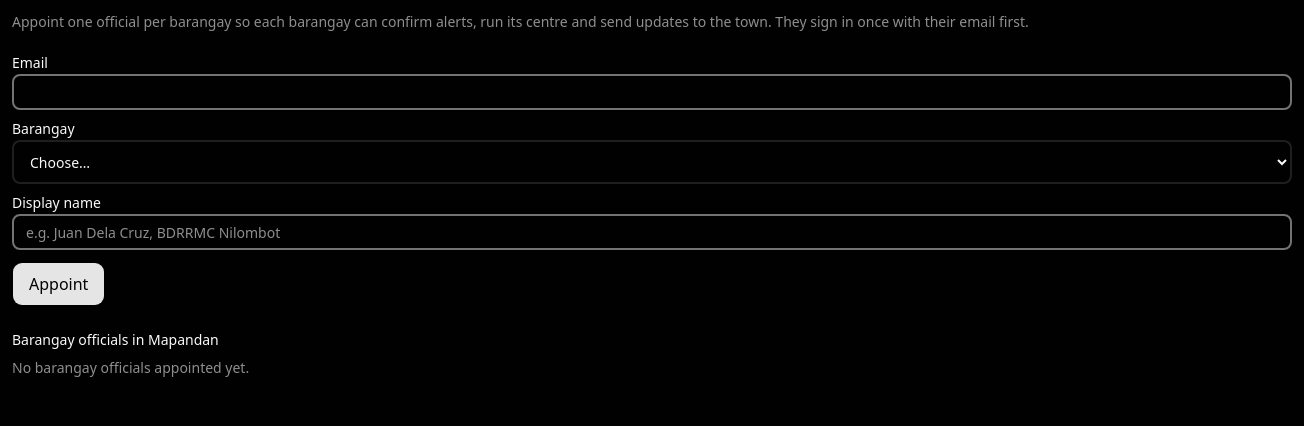
Scenario: TownOfficialsPanel (a municipal official manages their barangay officials) › shows the database's refusal
Type "x@y.z" into the field labelled "Email" at (652, 92), box [12,74,1292,110]
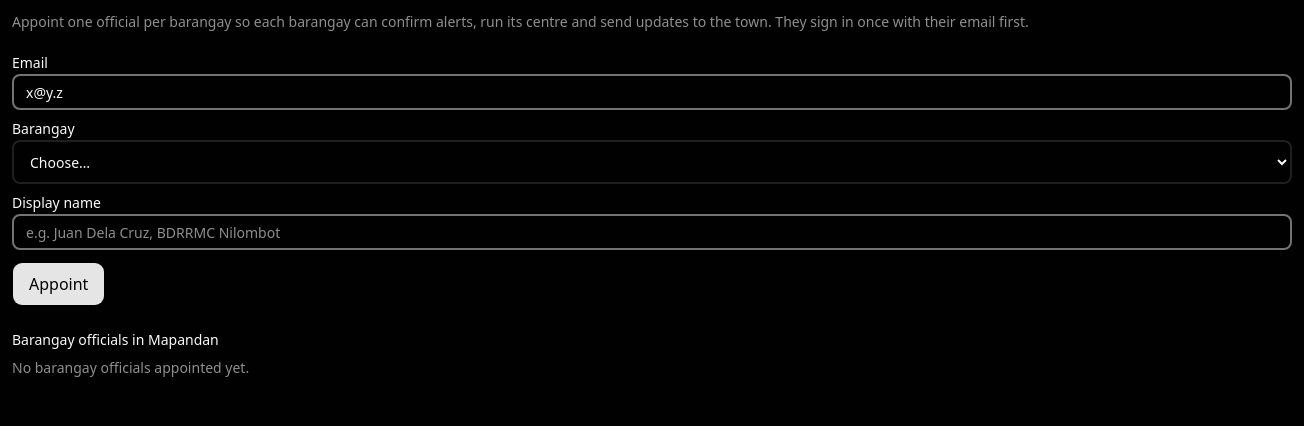
Select "Barangay Nilombot, Mapandan" in the dropdown labelled "Barangay" at (652, 162), box [12,140,1292,184]
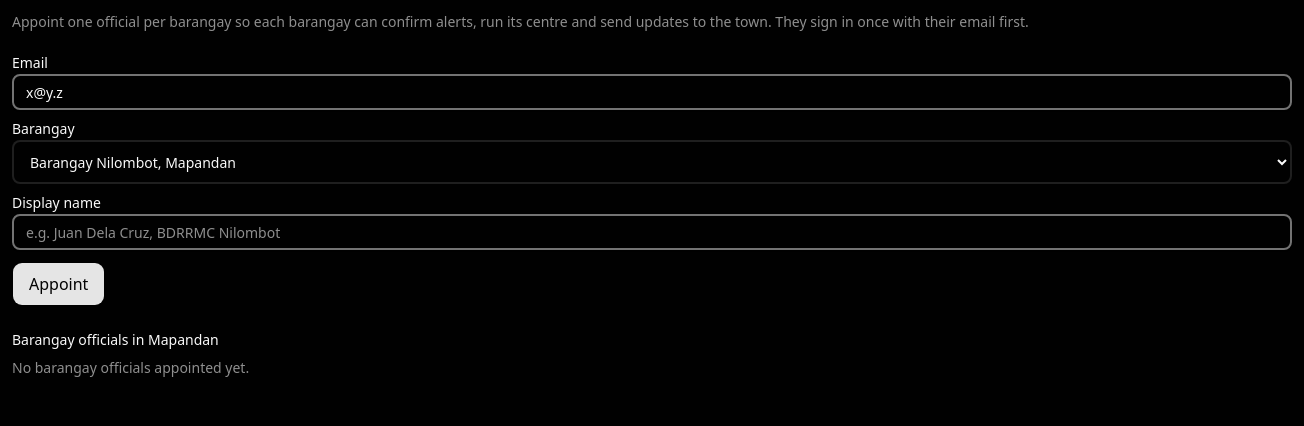
Type "X" into the field labelled "Display name" at (652, 232), box [12,214,1292,250]
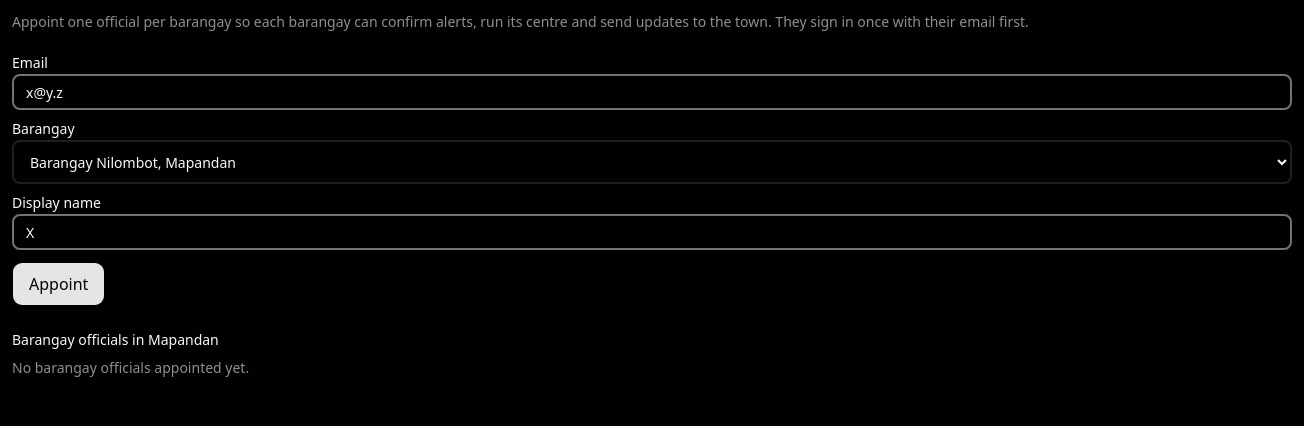
Click the button "Appoint" at (59, 284), box [12,262,105,306]
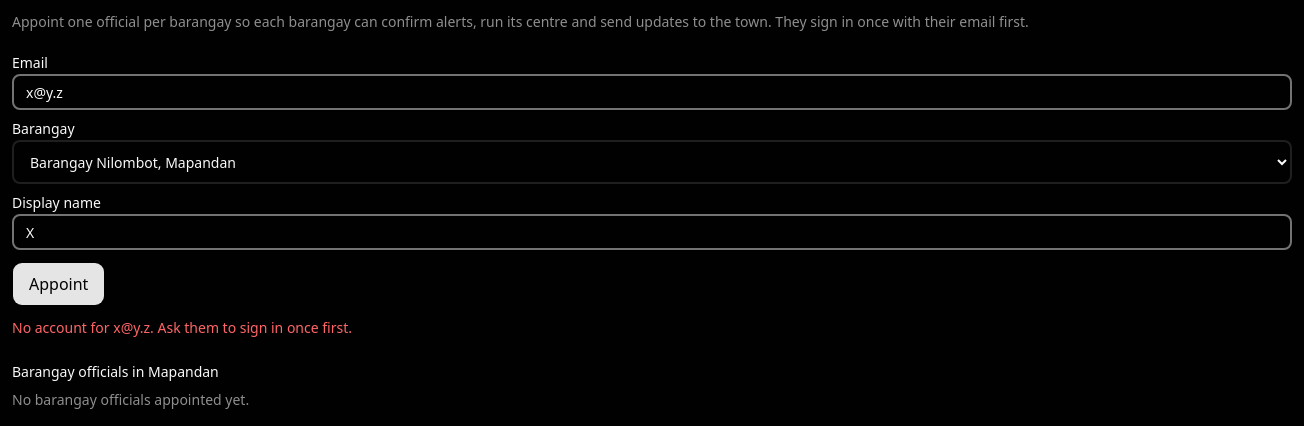
expect the message shows "sign in once": met, box [12,318,352,337]
